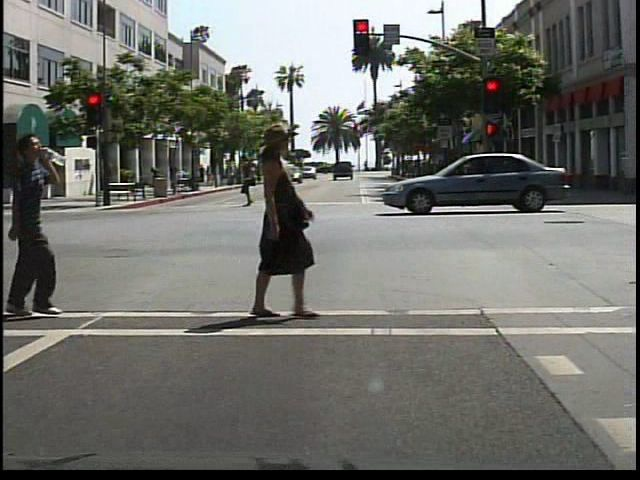person: (229, 129, 339, 327), (4, 130, 67, 320), (240, 155, 260, 209), (147, 165, 168, 193), (167, 162, 182, 191)
